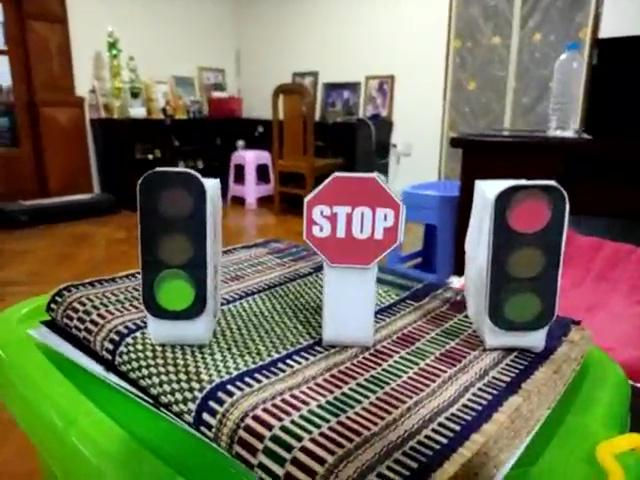Green Traffic Light: (138, 165, 211, 321)
Red Traffic Light: (489, 179, 567, 333)
Stop Sign: (301, 172, 406, 270)
